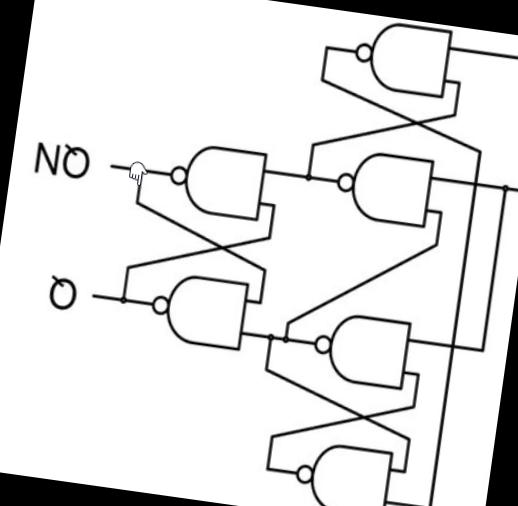nand: (156, 130, 273, 227), (327, 143, 440, 236), (347, 12, 461, 104), (306, 304, 414, 398), (144, 265, 254, 357), (282, 432, 399, 506)
